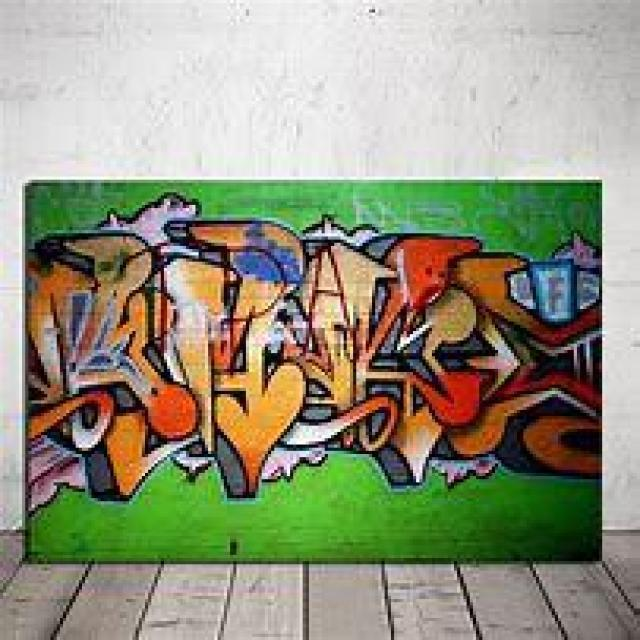nonspitting: (26, 192, 600, 514)
